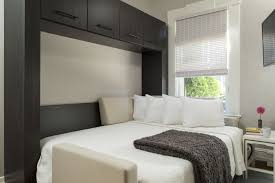bed-matress: (37, 119, 244, 183)
